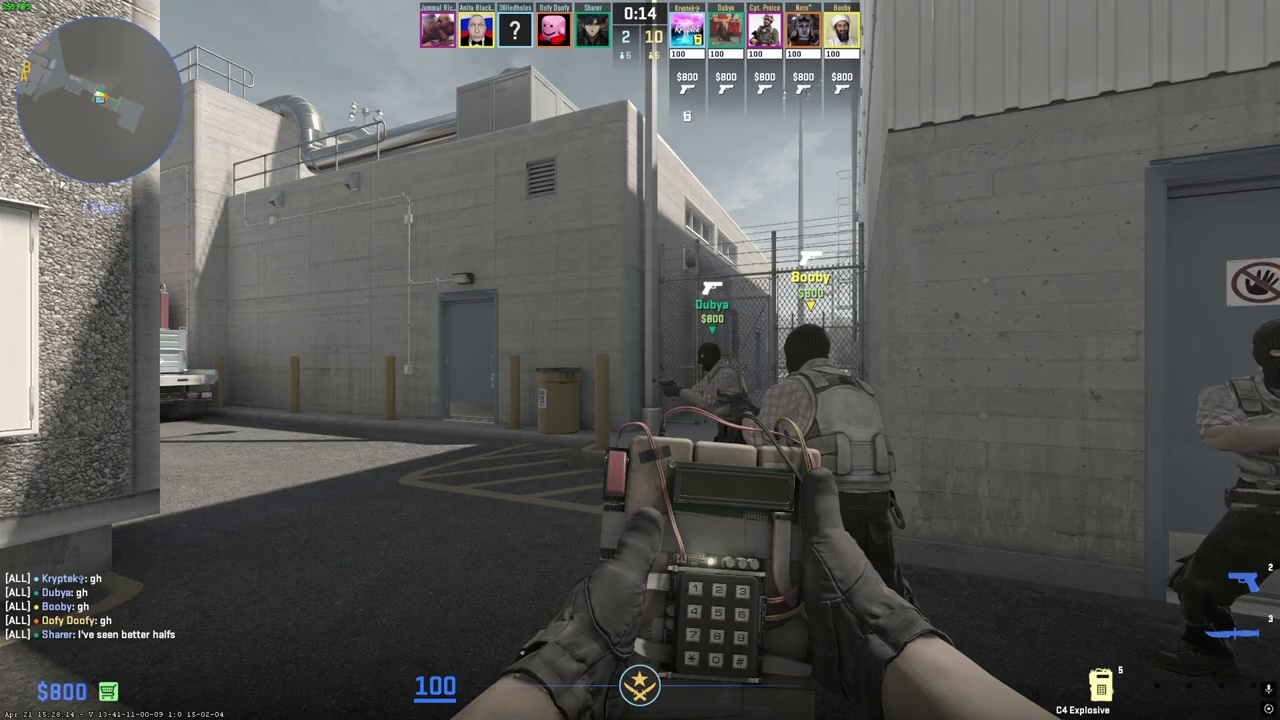Terrorist: (1168, 317, 1280, 684), (758, 324, 895, 599), (687, 342, 749, 444)
